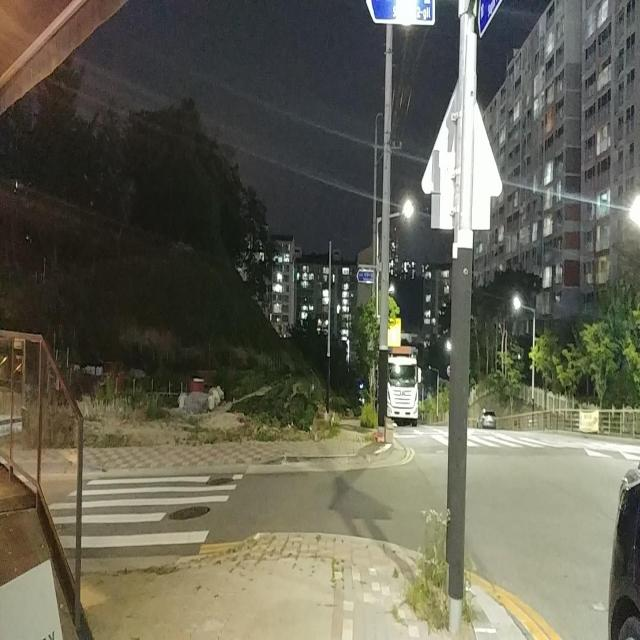횡단보도: (47, 472, 245, 550), (428, 431, 590, 451)
